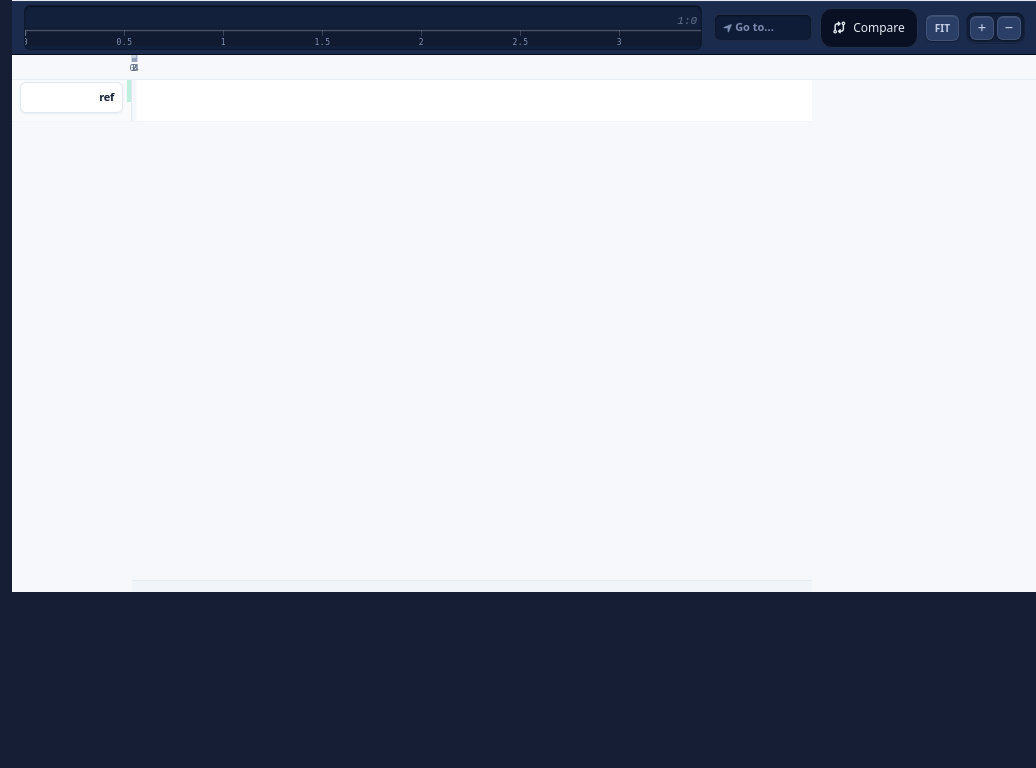
Test: the open panel closes when comparisonMenu becomes null
Click the button with aria-label "Compare to reference" at (869, 28), box [820,8,918,48]
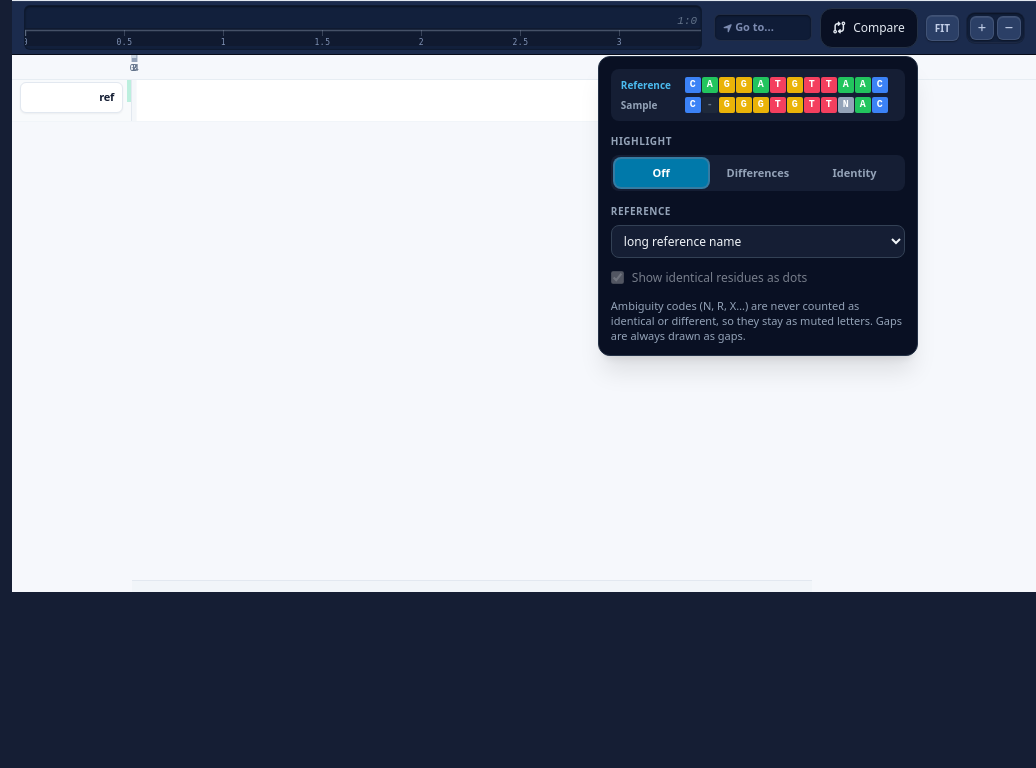
Check: the element named "Reference comparison" is shown, box [598,56,918,356]
